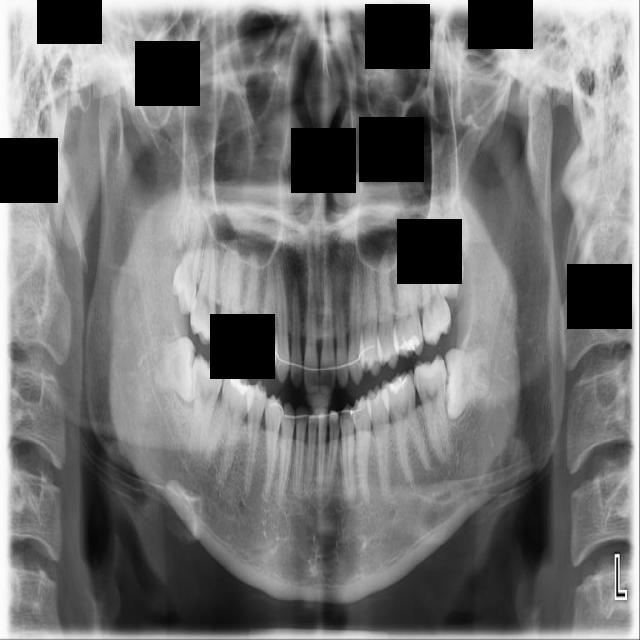3M ESPE Implant: (168, 210, 207, 317)
52: (225, 368, 251, 398), (219, 329, 242, 353), (387, 371, 410, 395), (398, 334, 423, 356), (389, 376, 407, 394)
73: (616, 608, 624, 617)
BioHorizons Implant: (420, 223, 452, 345)
BioLife Implant: (427, 205, 468, 301)
Biomet 3i Implant: (443, 347, 490, 421)
Blue Sky Bio Implant: (412, 355, 457, 463)
Caries: (189, 224, 217, 346)
Implant: (188, 352, 224, 463)
Keystone Dental Implant: (152, 336, 199, 405)
